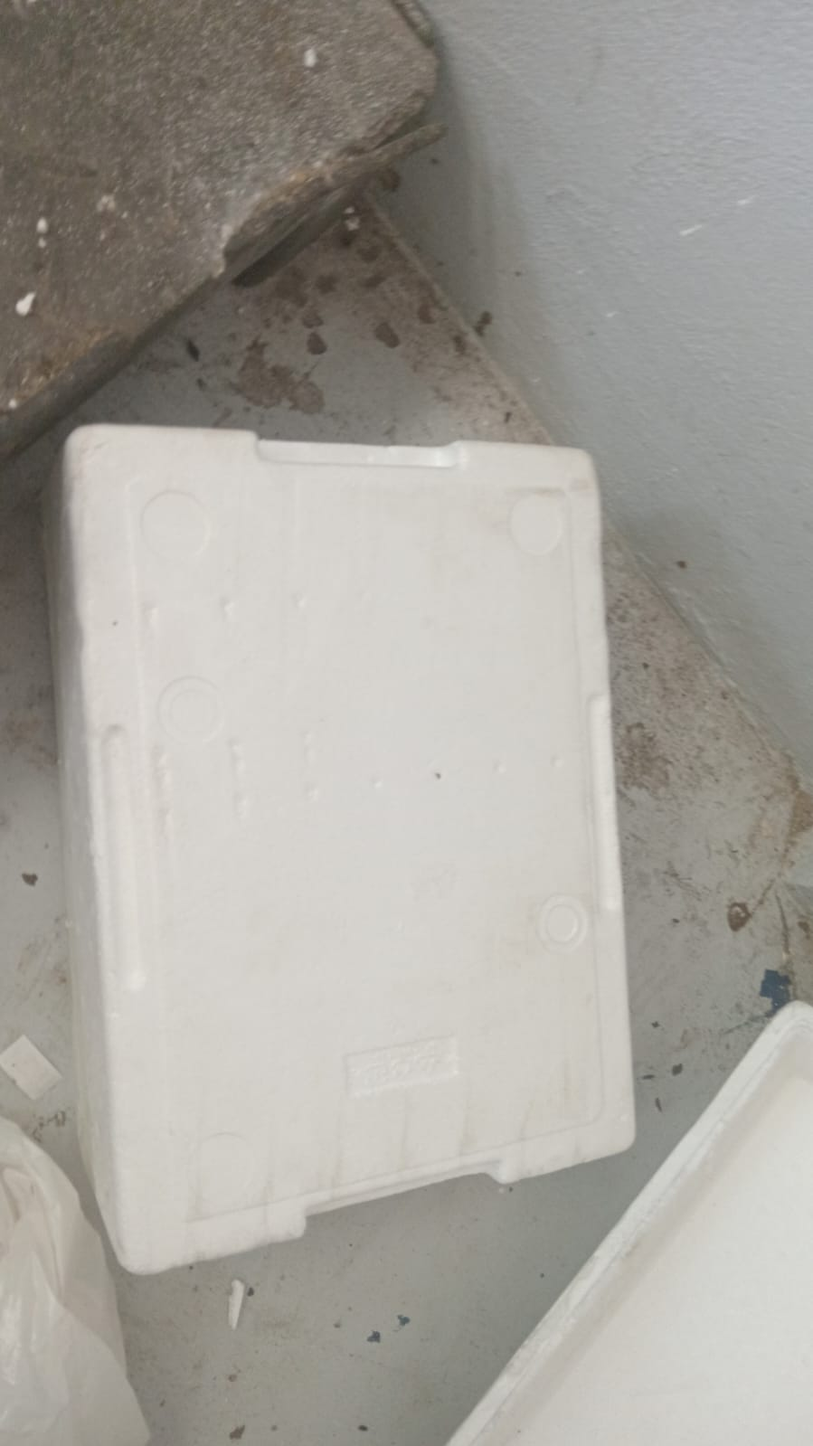Ordinario: (42, 424, 639, 1273)
